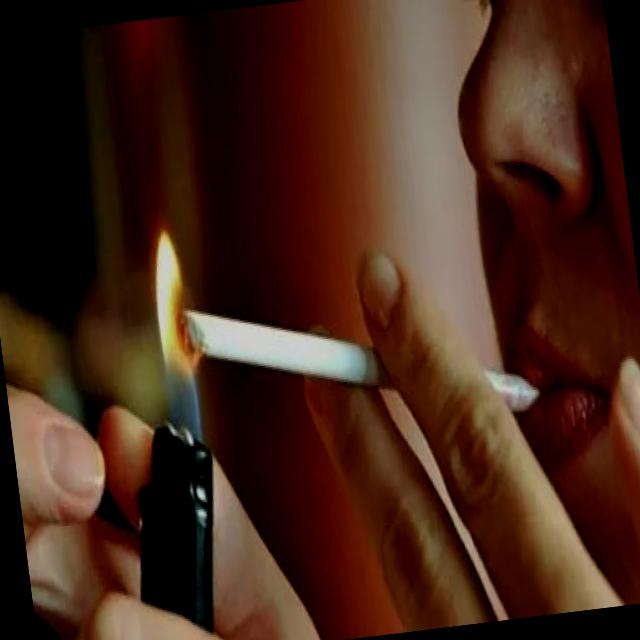smoke: (169, 261, 548, 470)
